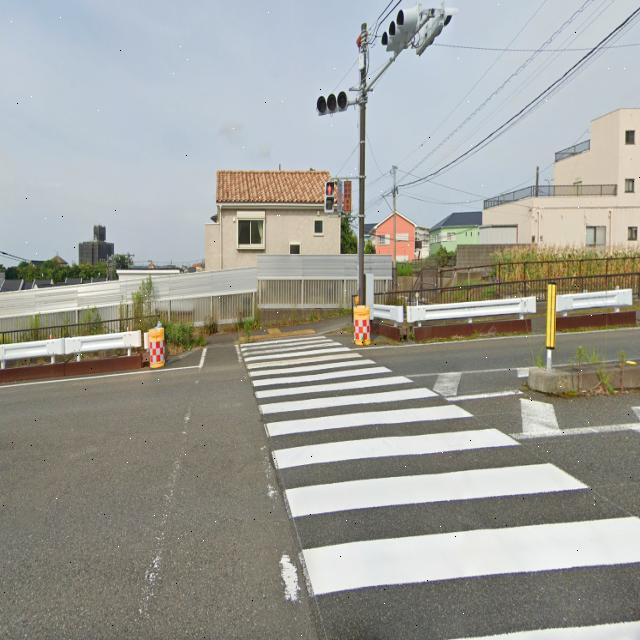traffic-light: (324, 182, 336, 212)
